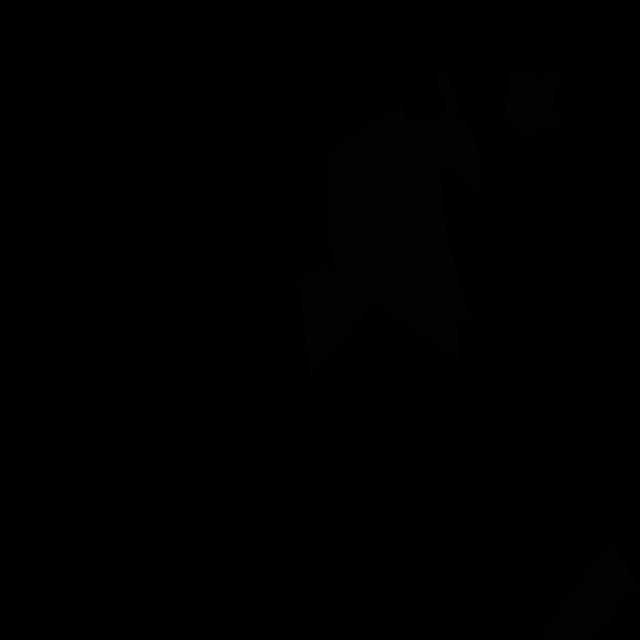cardboard: (297, 103, 473, 380), (534, 540, 639, 640), (424, 67, 482, 193), (504, 64, 561, 138)
